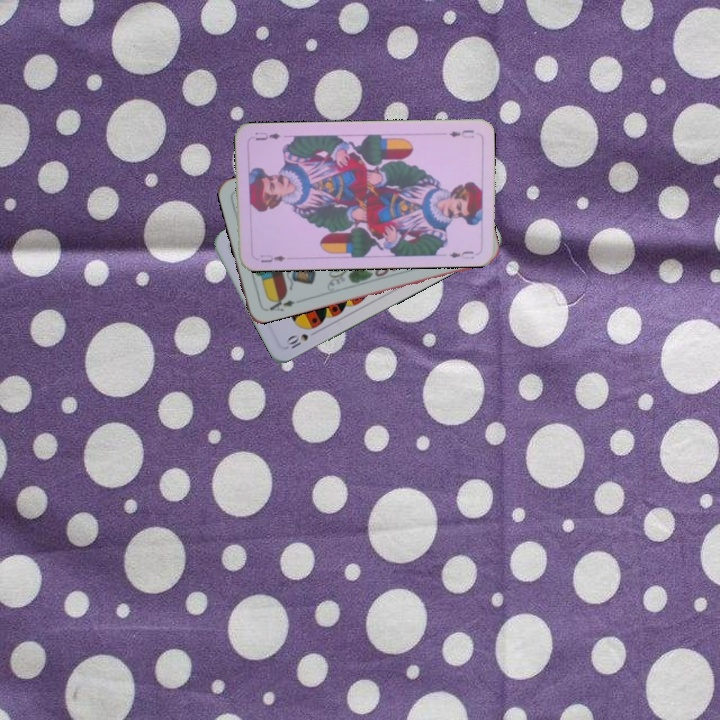EA: (262, 292, 302, 314)
EU: (257, 250, 288, 265), (445, 126, 476, 141)
S10: (282, 329, 311, 351)
